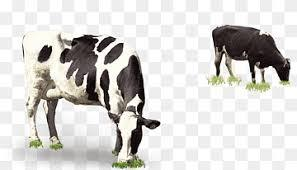cow: (23, 32, 160, 164), (213, 25, 290, 84)
